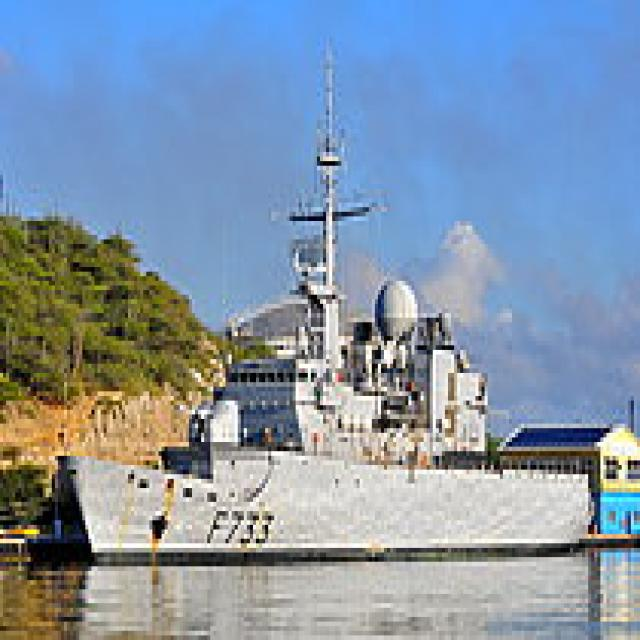Warship: (52, 23, 588, 562)
